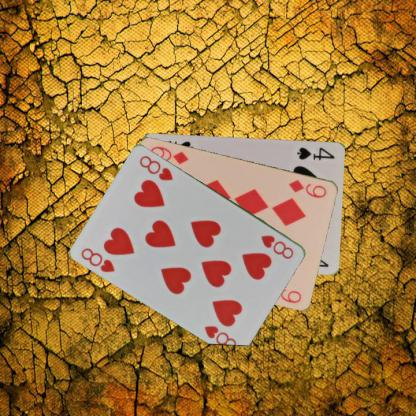4s: (295, 144, 336, 162)
8h: (258, 232, 296, 261), (78, 245, 116, 274)
9d: (286, 176, 328, 200)
